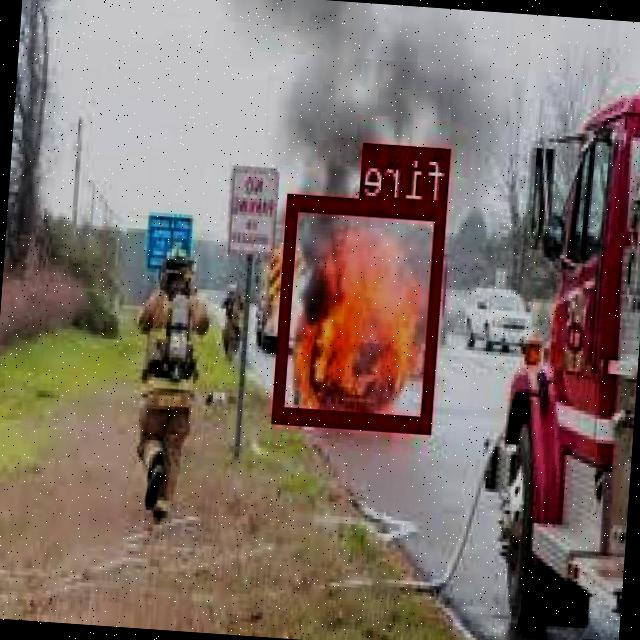fire: (274, 193, 448, 430)
